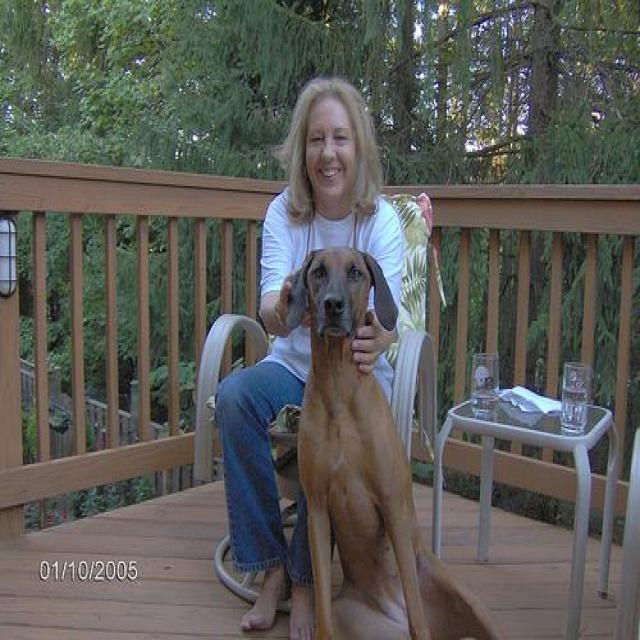relax: (278, 237, 427, 640)
